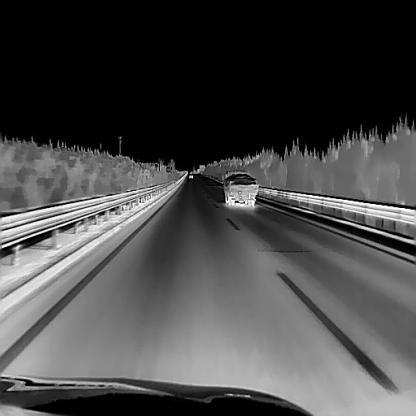car: (220, 169, 258, 205), (188, 171, 193, 178)
